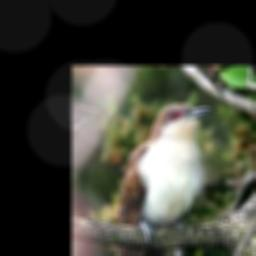Cuckoo: (109, 104, 212, 256)
